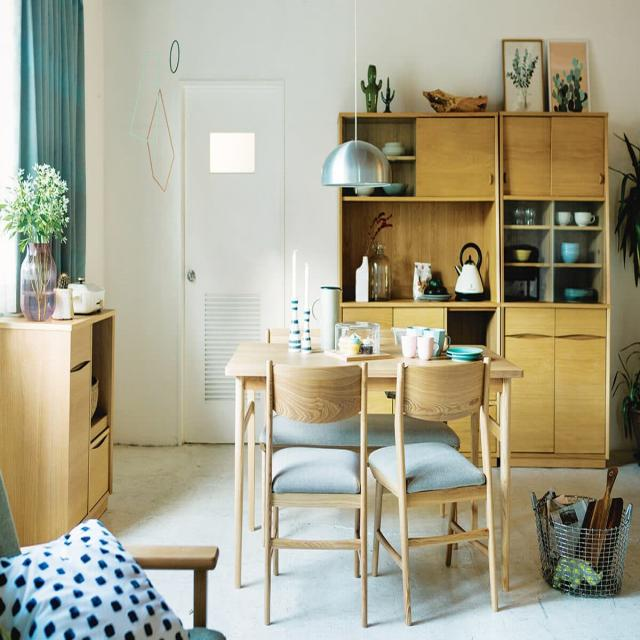natural chair: (377, 357, 500, 622), (264, 358, 370, 630)
natural desk: (223, 336, 524, 597)
natural shelf: (337, 108, 611, 334), (2, 308, 114, 532)
